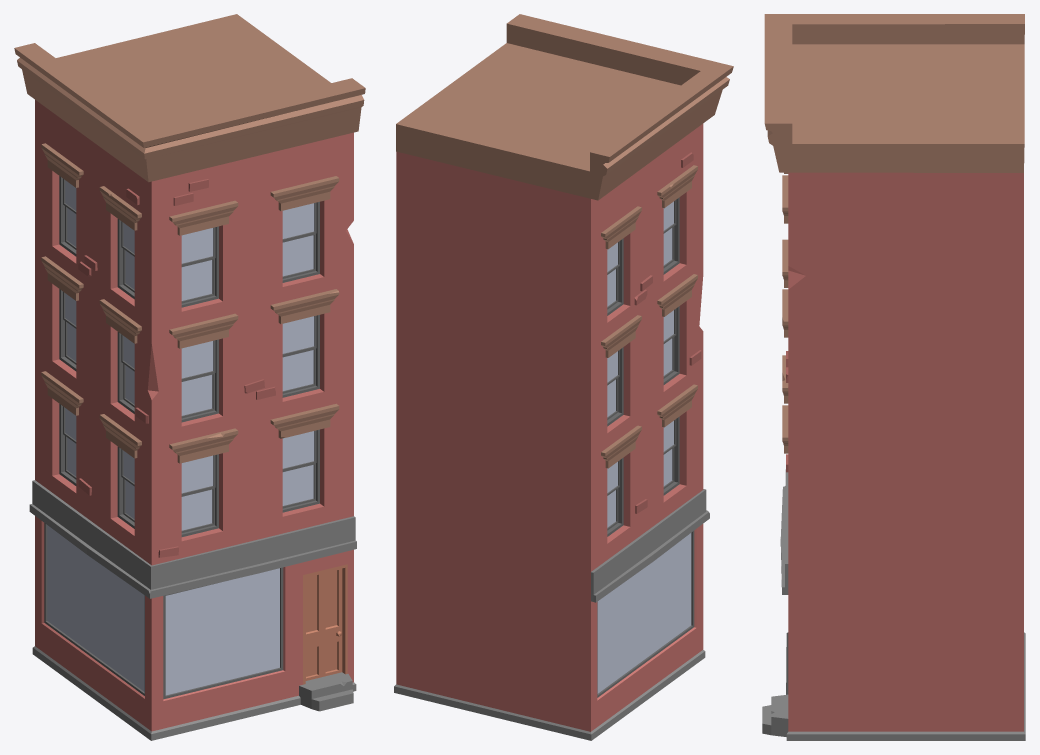
Rendered from buildingcornerred_lev3.glb.
3 views of the same model, side by side, from view 1: azimuth 30°, elevation 25°; view 2: azimuth 150°, elevation 25°; view 3: azimuth 270°, elevation 25° (orthographic). The views are drawn at different scales.
Parts seen in each view (by area): view 1: buildingcornerred_lev3; view 2: buildingcornerred_lev3; view 3: buildingcornerred_lev3.
Part boxes in pixels (box(x1,y1,x2,y2)): buildingcornerred_lev3: box(14, 14, 365, 740); buildingcornerred_lev3: box(394, 14, 733, 740); buildingcornerred_lev3: box(762, 14, 1025, 740).
Size of the model in its own units: 4.8 by 12.52 by 4.84.
